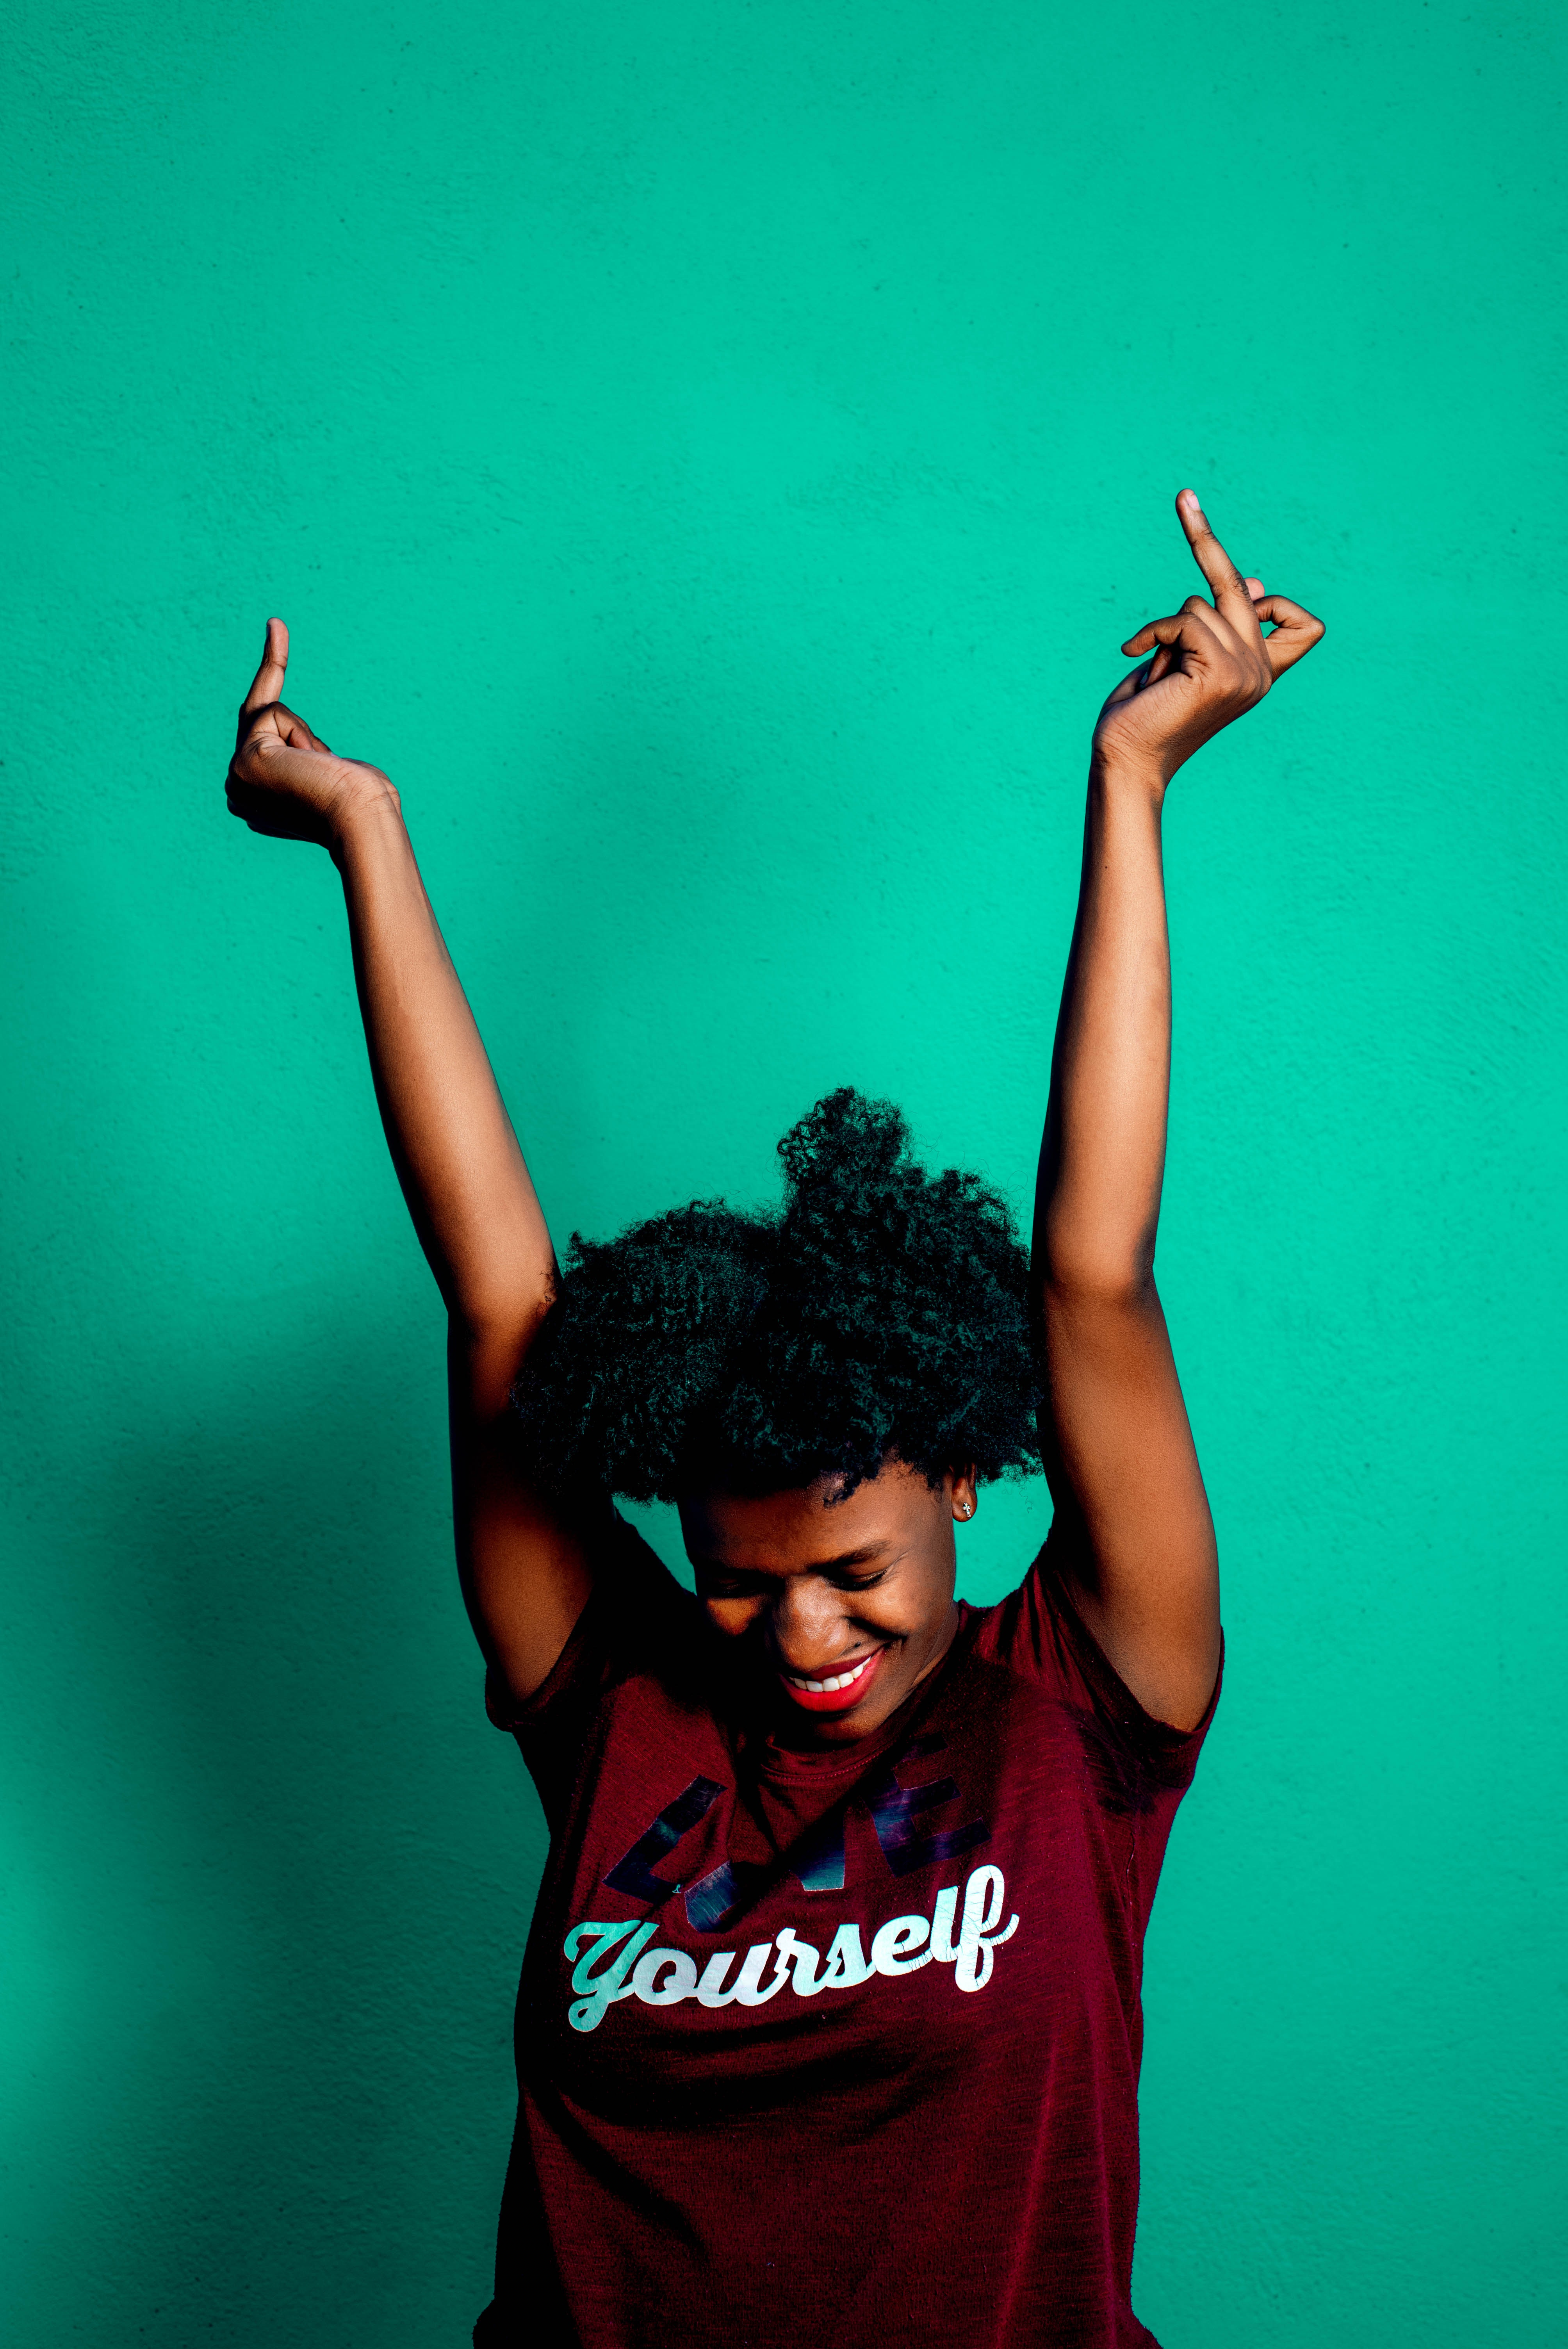bad fingers: (1088, 490, 1332, 779), (215, 616, 427, 847)
